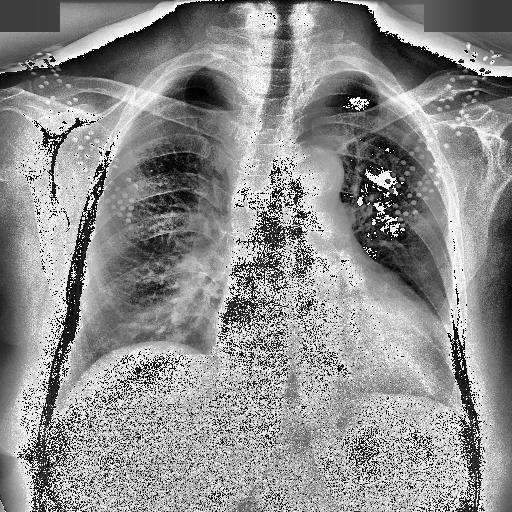0- Aortic enlargement: (276, 146, 346, 218), (278, 144, 342, 212), (272, 145, 344, 203)
3- Cardiomegaly: (204, 283, 450, 395), (191, 310, 446, 390), (206, 300, 450, 368)
